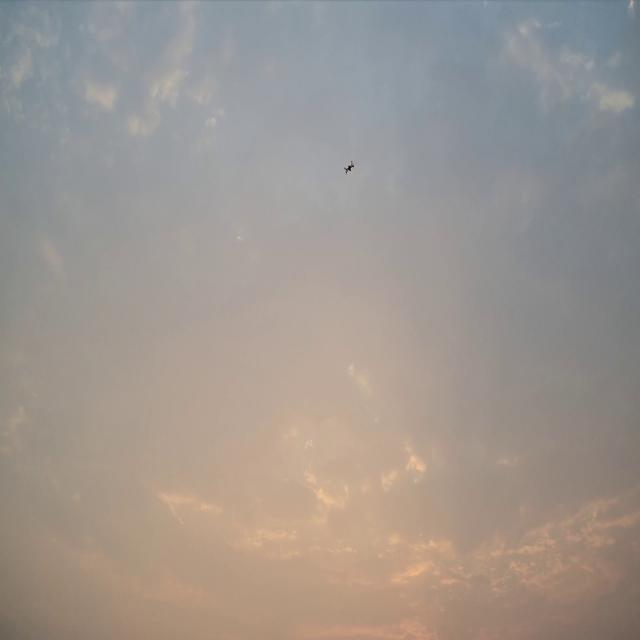UAV: (344, 160, 355, 174)
